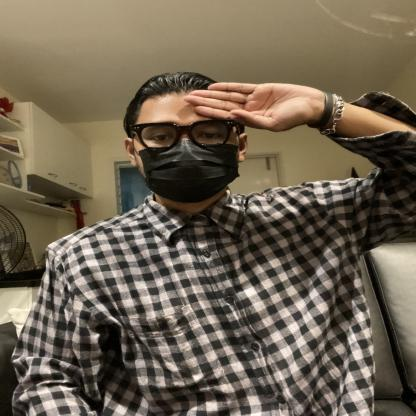Sick: (49, 48, 336, 172)
